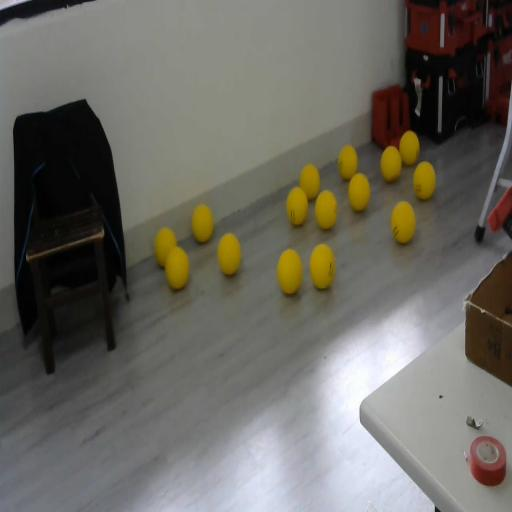FUEL: (309, 242, 335, 289), (164, 244, 190, 290), (276, 248, 302, 294), (217, 231, 242, 277), (390, 200, 416, 244), (412, 160, 436, 201), (190, 203, 214, 244), (314, 190, 338, 230), (348, 172, 370, 213), (286, 187, 308, 226), (299, 163, 321, 201), (380, 145, 402, 183), (399, 130, 420, 166), (338, 145, 358, 180)
